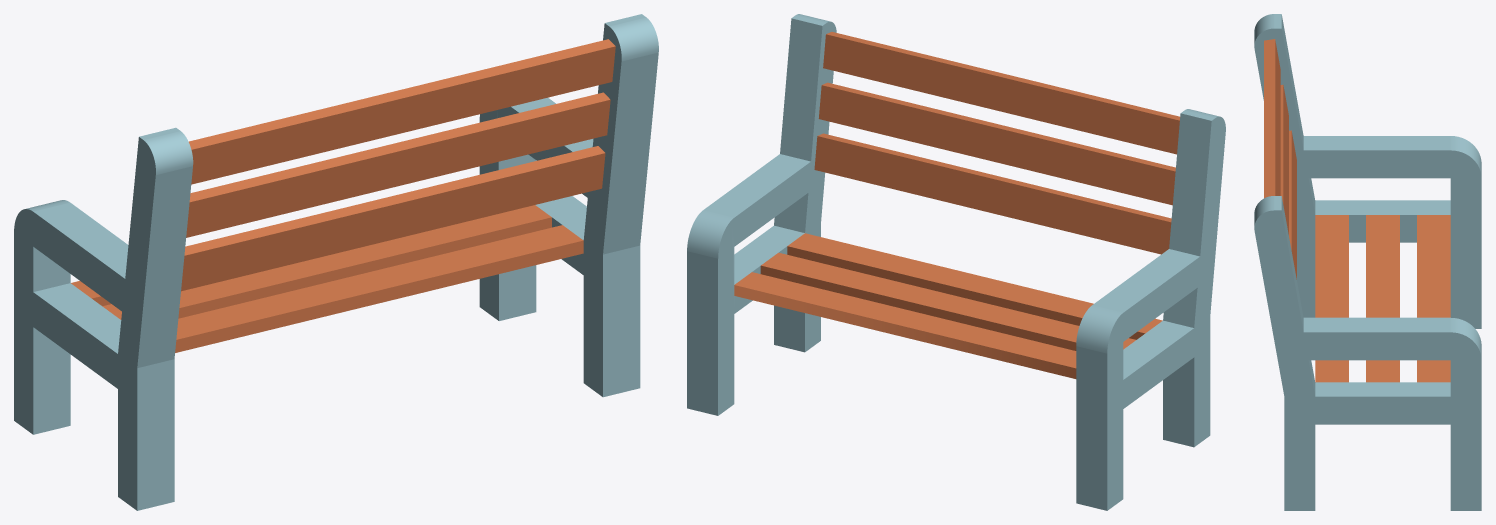
File: d_kenney_banc_pierre.glb
3 renders of one model, left to right at view 1: azimuth 30°, elevation 25°; view 2: azimuth 150°, elevation 25°; view 3: azimuth 270°, elevation 25°, orthographic. The views are drawn at different scales.
Parts seen in each view (by area): view 1: d_kenney_banc_pierre; view 2: d_kenney_banc_pierre; view 3: d_kenney_banc_pierre.
Boxes of the visible parts, x1=… form: d_kenney_banc_pierre: x1=14, y1=14, x2=658, y2=510; d_kenney_banc_pierre: x1=687, y1=14, x2=1225, y2=510; d_kenney_banc_pierre: x1=1254, y1=14, x2=1481, y2=510.
Bounding box in the file's own units: 0.7695 × 0.5489 × 0.3762.
1 material, 1 textured.
